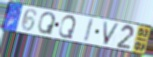2: (116, 24, 136, 51)
6: (21, 8, 38, 33)
I: (82, 18, 95, 44)
Q: (37, 11, 58, 36), (57, 15, 77, 40)
V: (102, 20, 121, 46)
